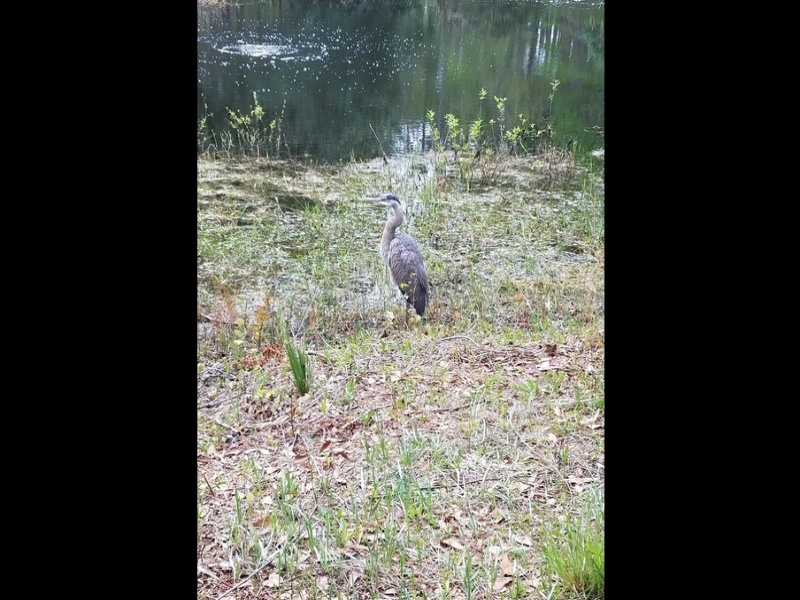heron: (365, 193, 433, 336)
